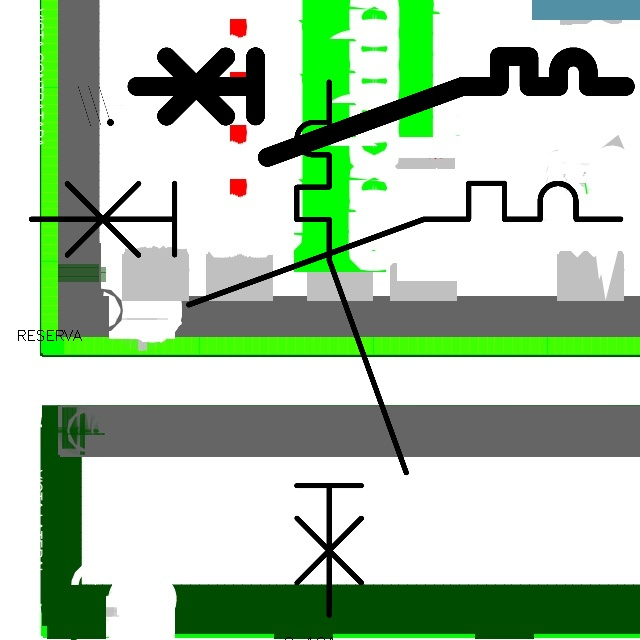interruptor_termomagnetico: (16, 168, 636, 319), (283, 68, 420, 629), (124, 44, 638, 169)
